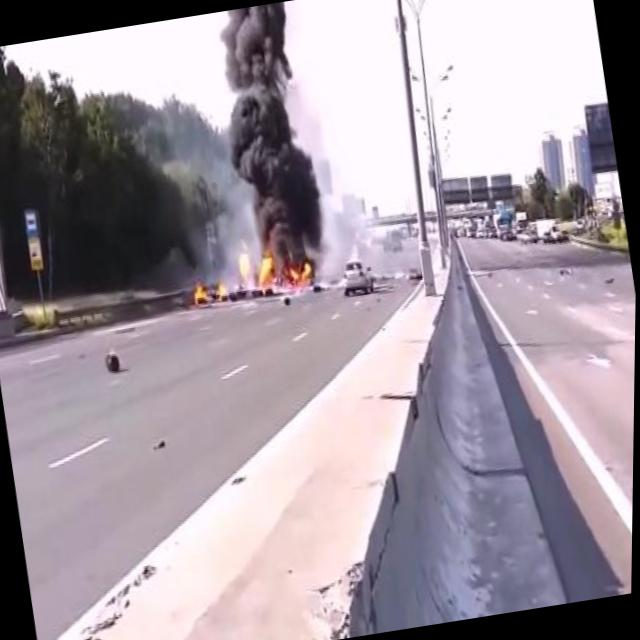fire: (252, 246, 318, 300), (232, 242, 256, 282), (189, 276, 213, 308), (213, 278, 232, 303)
